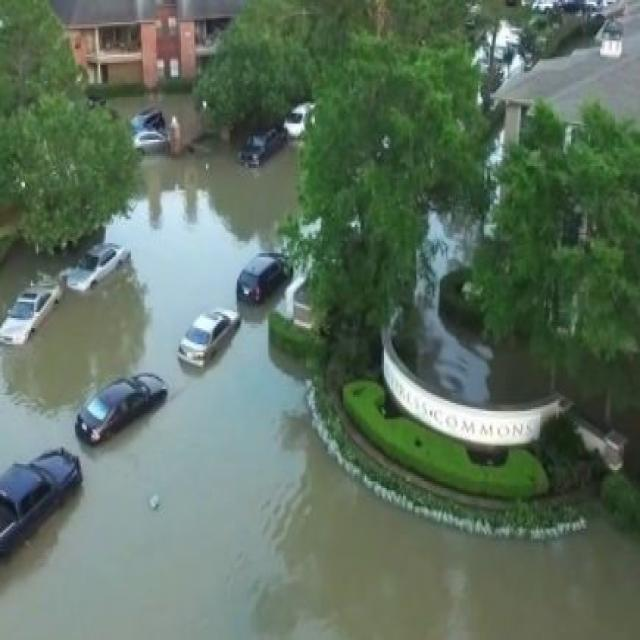flooded_areas: (0, 89, 614, 636)
